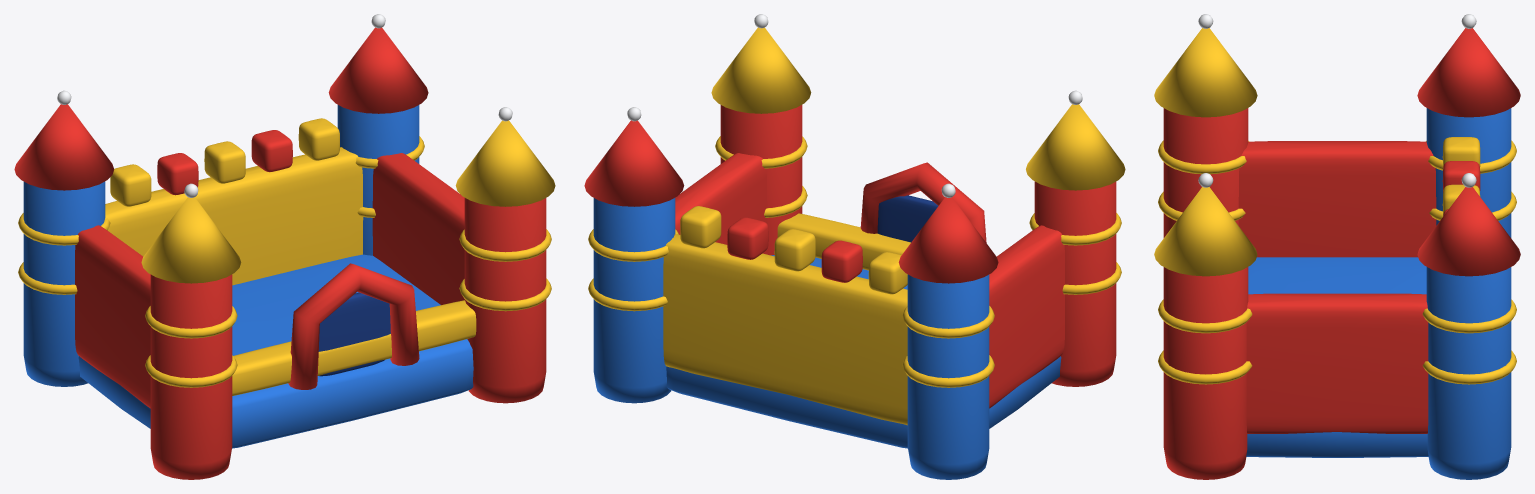
File: bounce_house.glb
3 renders of one model, left to right at view 1: azimuth 30°, elevation 25°; view 2: azimuth 150°, elevation 25°; view 3: azimuth 270°, elevation 25°, orthographic. The views are drawn at different scales.
Parts seen in each view (by area): view 1: Body; view 2: Body; view 3: Body.
Boxes of the visible parts, box(x1,y1,x2,y2) form: Body: box(14, 14, 555, 479); Body: box(584, 14, 1125, 479); Body: box(1154, 14, 1520, 479).
Size of the model in its own units: 5.1 by 3.4 by 3.9.
